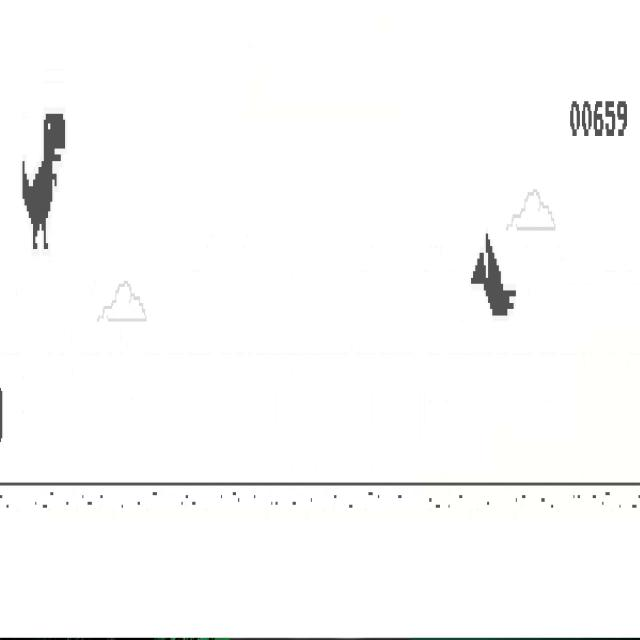cacto: (0, 387, 3, 443)
dino: (23, 112, 65, 250)
ptero: (471, 231, 516, 317)
